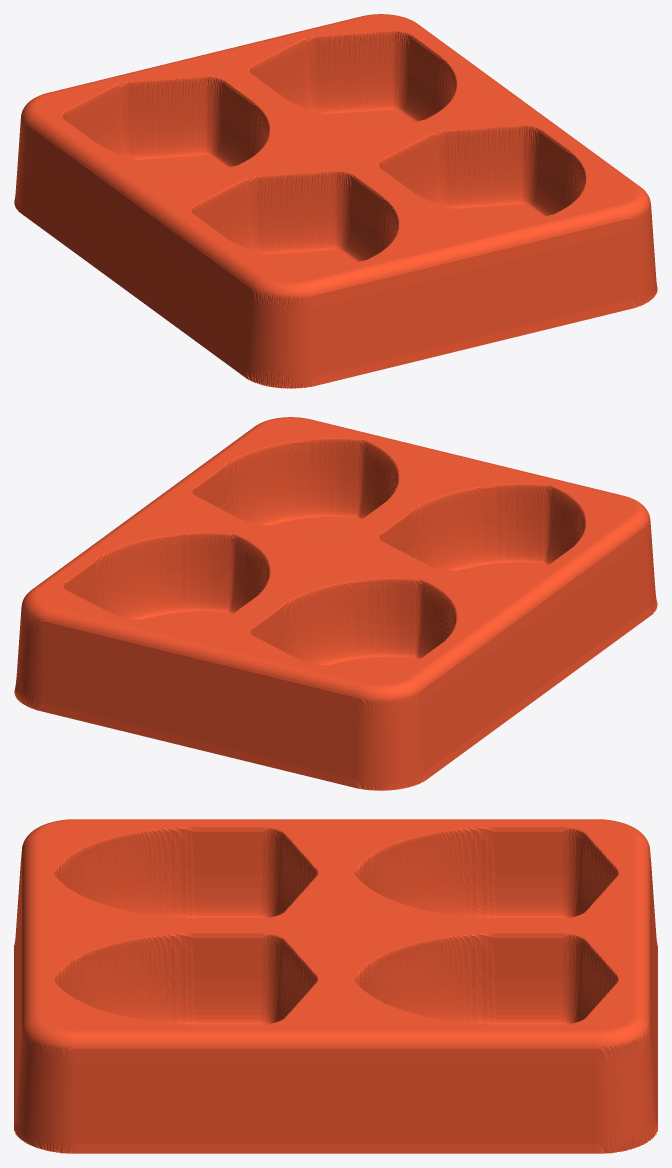
File: mold.glb
3 views of the same model, one above another, from view 1: azimuth 30°, elevation 25°; view 2: azimuth 150°, elevation 25°; view 3: azimuth 270°, elevation 25° (orthographic). The views are drawn at different scales.
Visible parts, largest first — view 1: geometry_0; view 2: geometry_0; view 3: geometry_0.
Part boxes in pixels (box(x1,y1,x2,y2)): geometry_0: box(14, 14, 657, 388); geometry_0: box(14, 417, 657, 790); geometry_0: box(14, 819, 657, 1153).
Bounding box in the file's own units: 0.0798 × 0.0182 × 0.0942.
